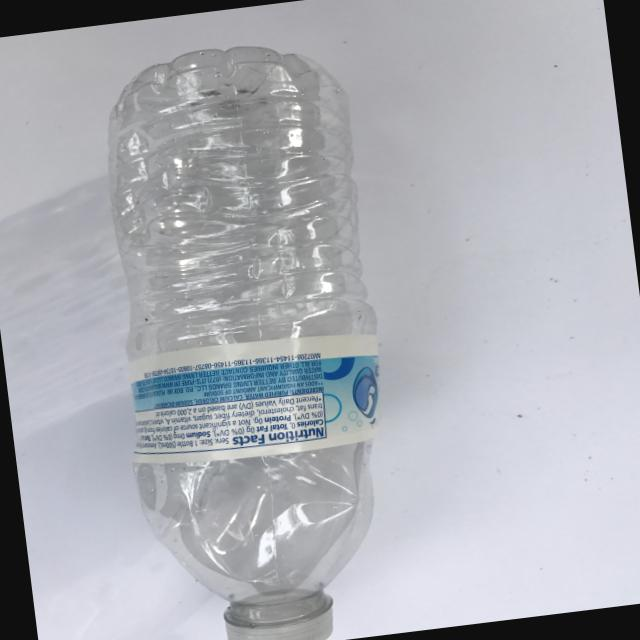Plastic: (67, 17, 435, 640)
